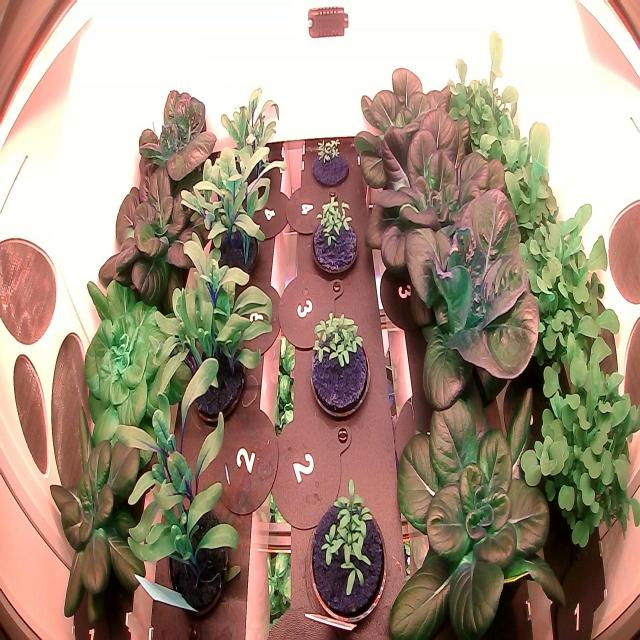germination: (300, 471, 392, 635), (305, 302, 375, 430), (304, 192, 366, 288), (305, 129, 354, 194)
young: (380, 362, 580, 640), (390, 179, 550, 415), (362, 96, 516, 287), (40, 414, 168, 632), (89, 147, 222, 318), (76, 267, 188, 456), (348, 51, 484, 193), (126, 72, 223, 198)
